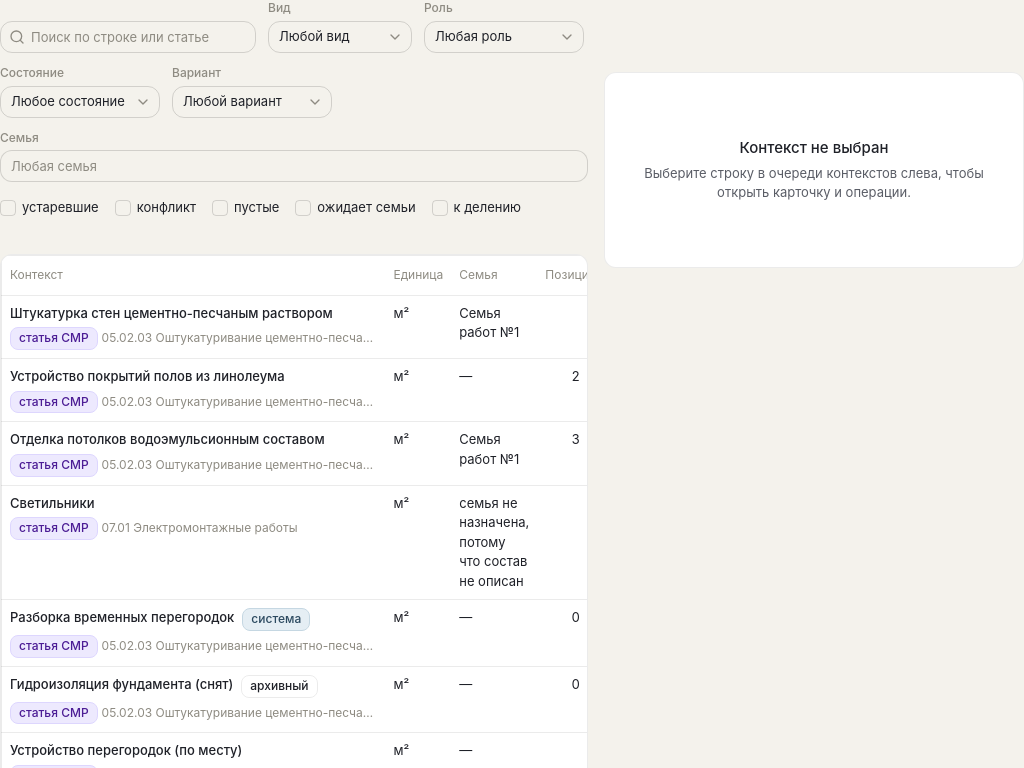
ContextsTab › смена фильтра снимает выбор, если выбранный контекст выпал из выдачи
Click the text "Штукатурка стен цементно-песчаным раствором" at (171, 314), box [10,304,333,323]
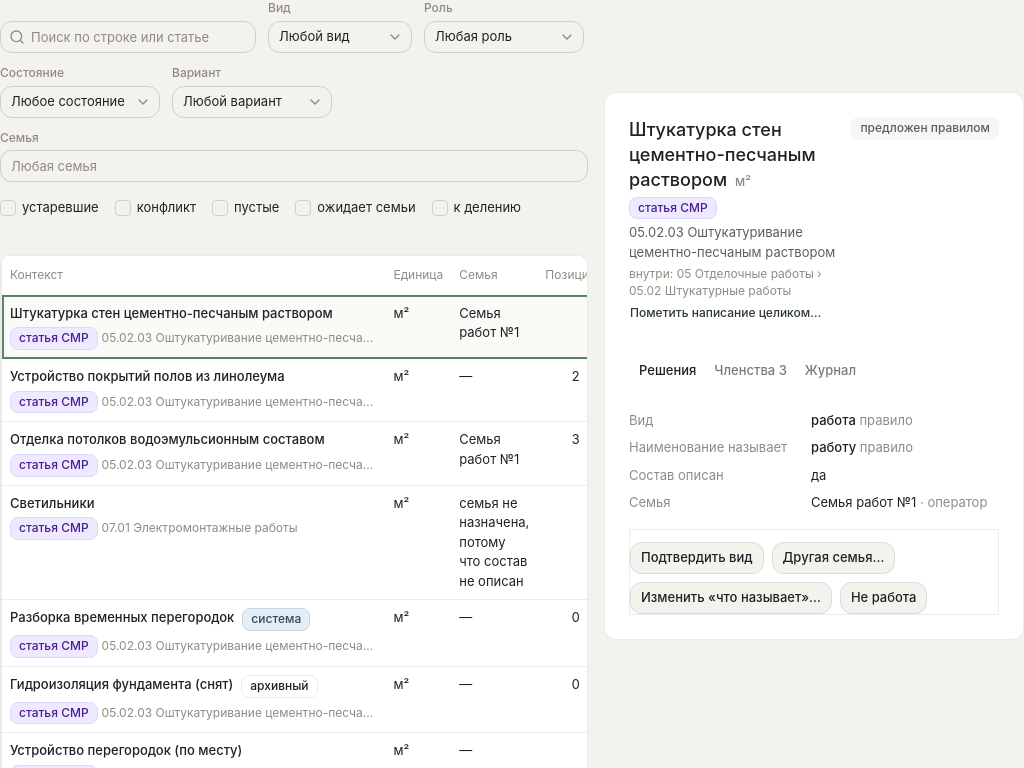
Expected: the heading "Контекст не выбран" is gone
Type "линолеум" into the field named "Поиск по написанию каталога" at (140, 37), box [25,19,255,55]
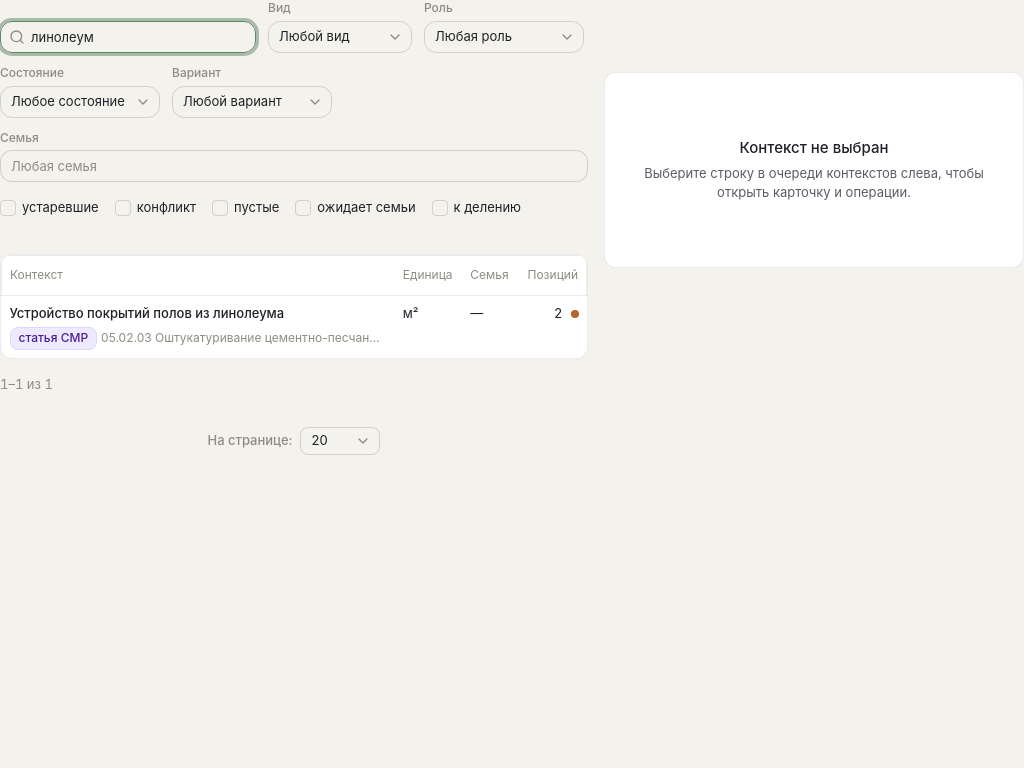
Expected: the text "Устройство покрытий полов из линолеума" is shown, [10,304,284,323]
Expected: the heading "Контекст не выбран" is shown, [740,137,888,160]
